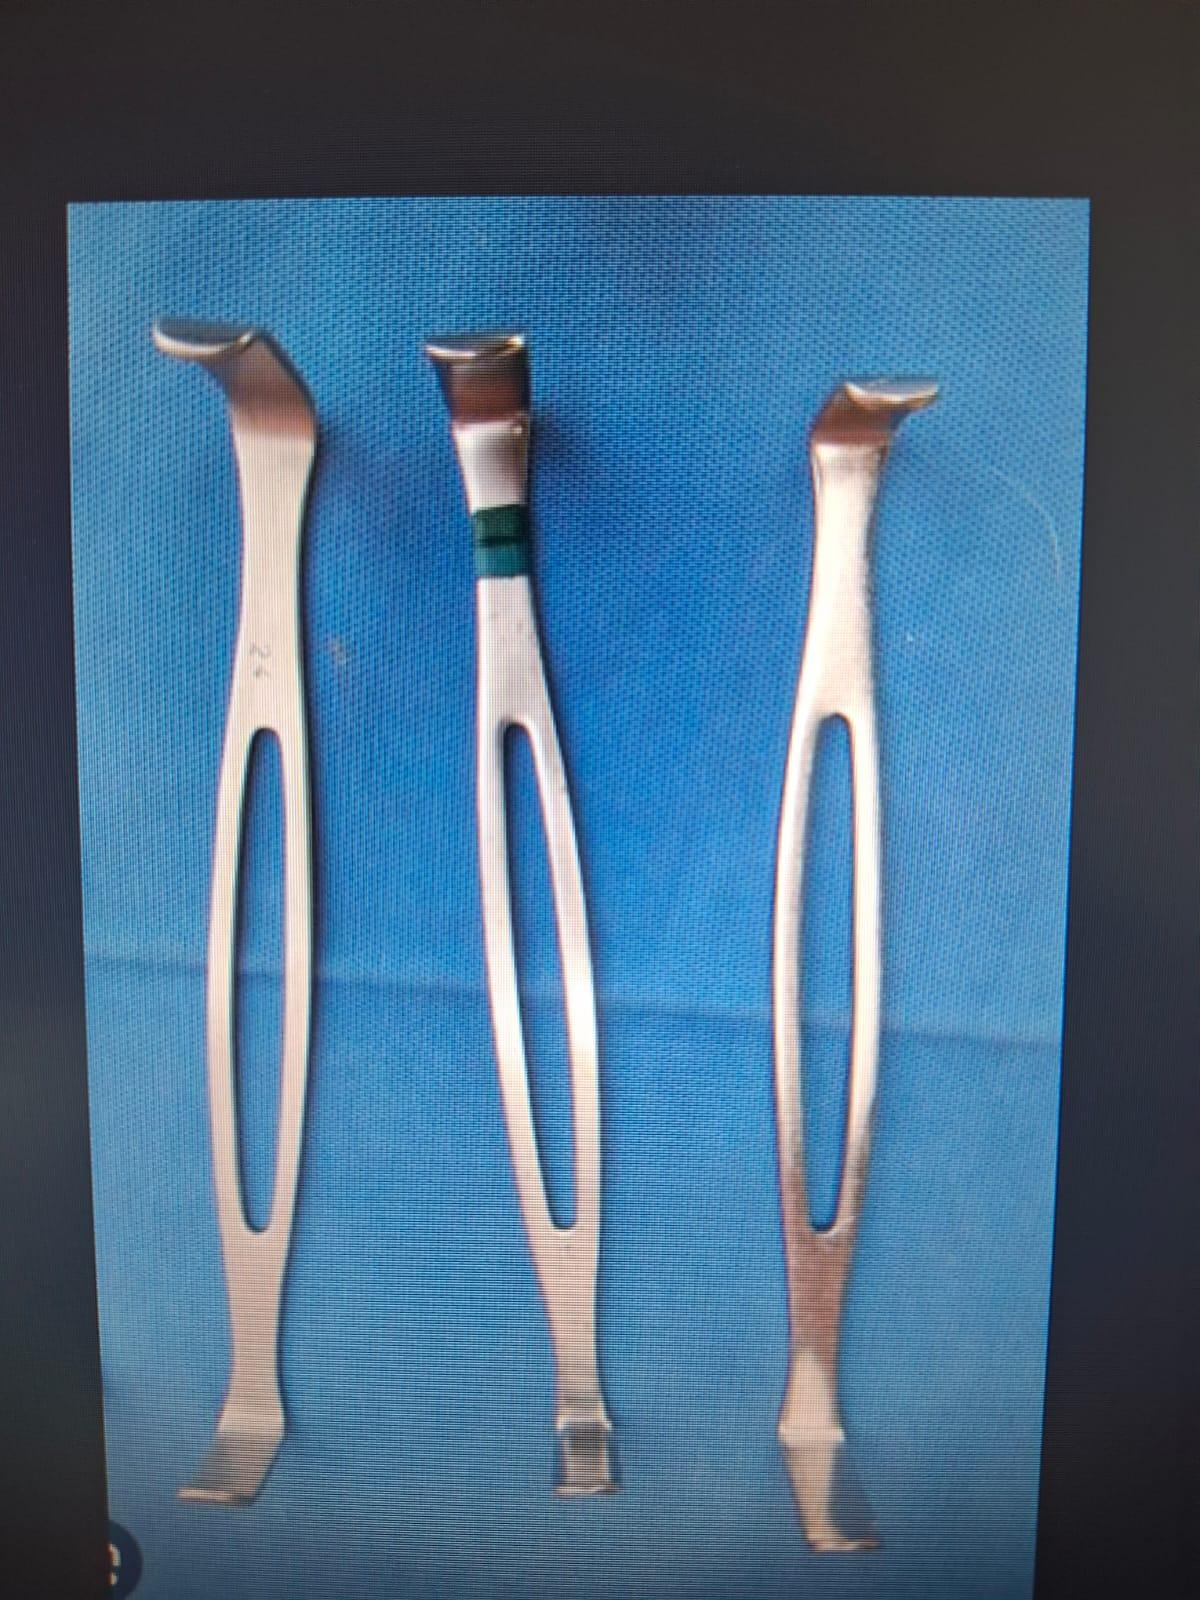Army Navy Retractor: (127, 290, 358, 1537), (747, 353, 953, 1580)
